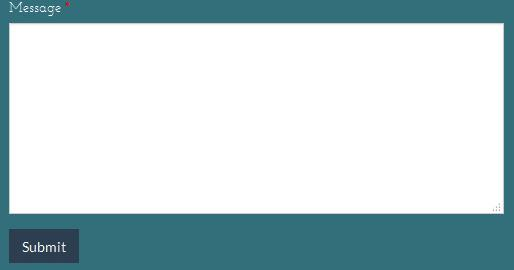button: (8, 227, 79, 264)
field: (7, 21, 507, 215)
